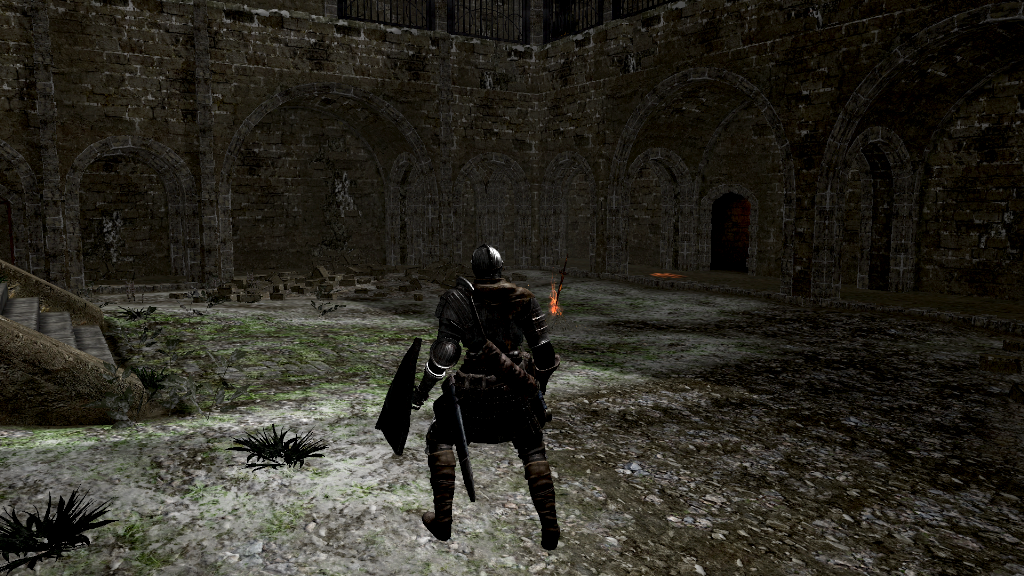bonfire: (546, 258, 573, 323)
player: (372, 244, 566, 551)
